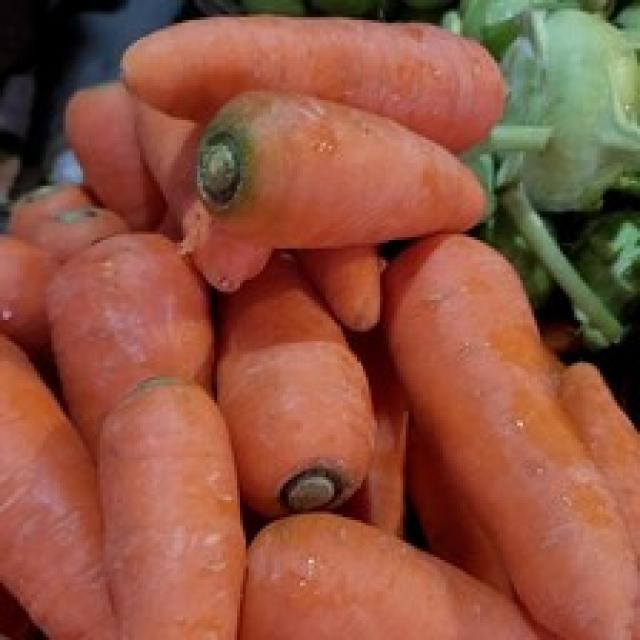Fresh_Carrot: (386, 228, 637, 640), (201, 253, 381, 499), (128, 23, 502, 136), (0, 336, 126, 640), (51, 232, 214, 437)
